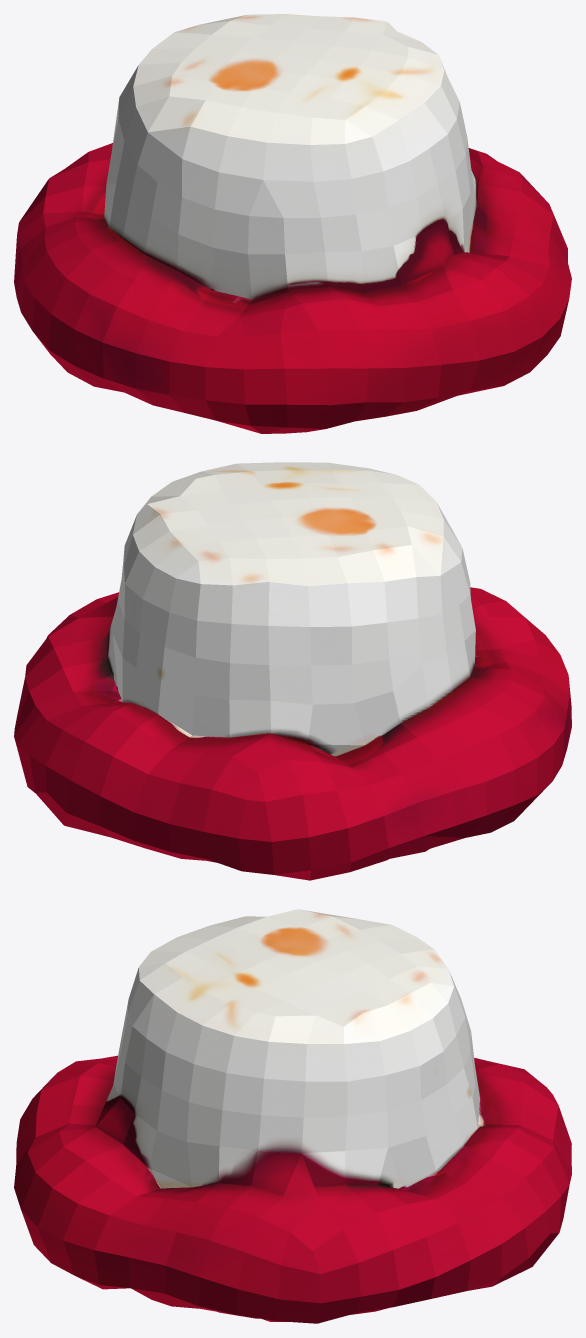
Rendered from tooth1_1.0.fbx.
3 views of the same model, one above another, from view 1: azimuth 30°, elevation 25°; view 2: azimuth 150°, elevation 25°; view 3: azimuth 270°, elevation 25° (orthographic).
Visible parts, largest first — view 1: temp; view 2: temp; view 3: temp.
Boxes of the visible parts, box(x1,y1,x2,y2) form: temp: box(14, 14, 571, 433); temp: box(14, 462, 571, 880); temp: box(14, 909, 571, 1323).
Bounding box in the file's own units: 1.91 × 1.12 × 1.91.
Materials: 1 (1 with a texture image).
